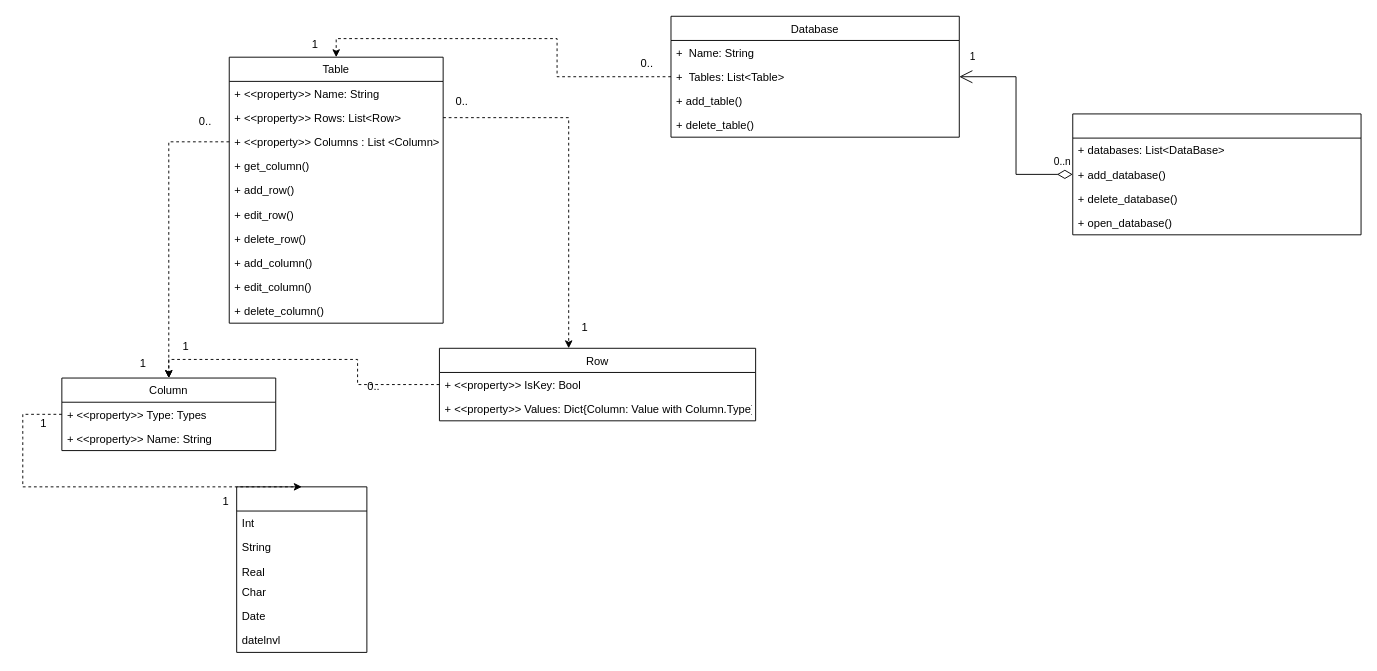
The diagram is 1377 pixels wide and 671 high, and some of its shapes have lost their labels. Each missing label, with the box of its shape:
Manage: (1072, 113, 1361, 235)
Types: (236, 486, 367, 652)
